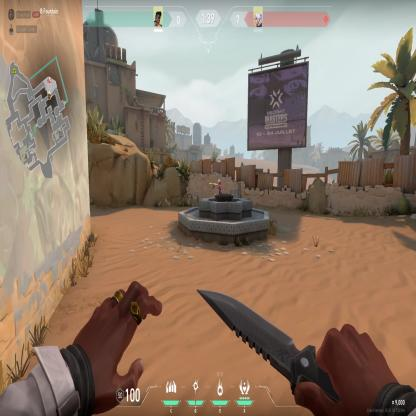enemy: (216, 178, 223, 194)
